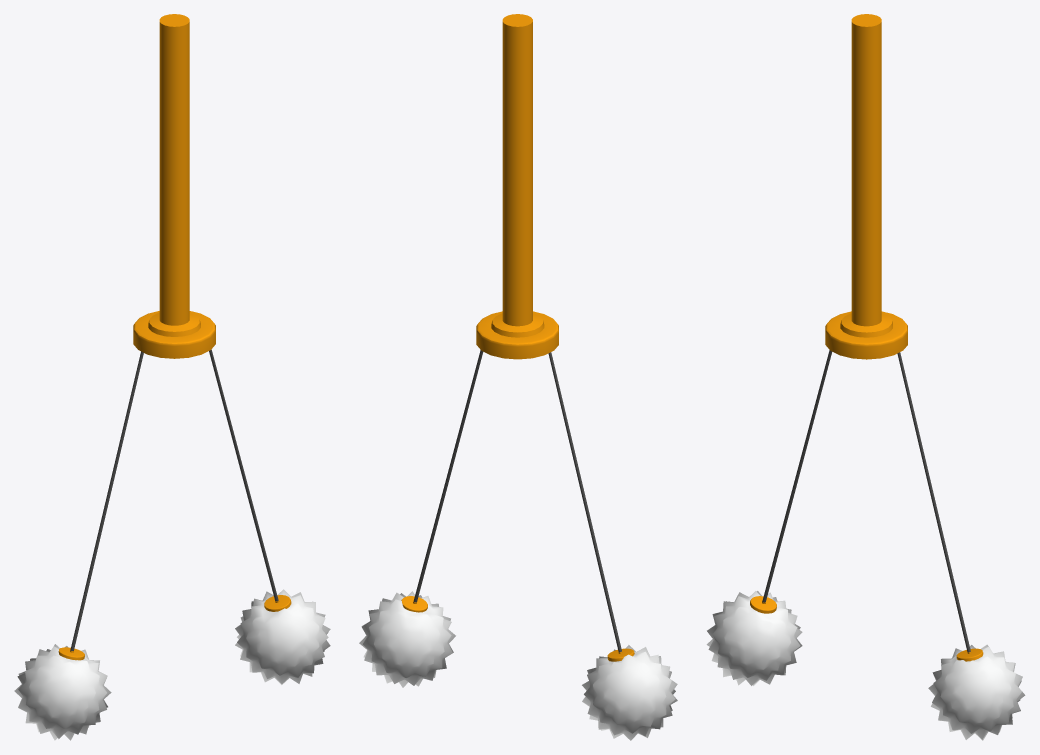
File: trap_07.fbx
3 views of the same model, side by side, from view 1: azimuth 30°, elevation 25°; view 2: azimuth 150°, elevation 25°; view 3: azimuth 330°, elevation 25° (orthographic).
Visible parts, largest first — view 1: trap; view 2: trap; view 3: trap.
Part boxes in pixels (x1,y1,x2,y2): trap: (14, 14, 330, 740); trap: (359, 14, 677, 740); trap: (706, 14, 1025, 740).
Size of the model in its own units: 2997 by 6483 by 848.
1 material, 1 textured.
